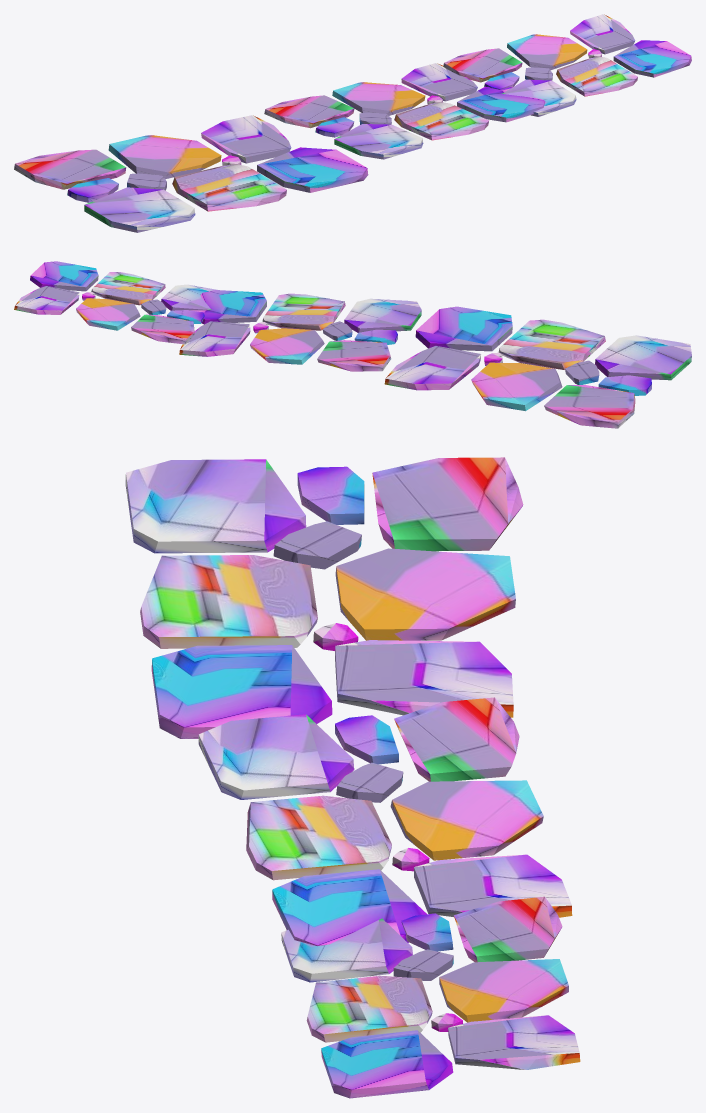
The model's file is road.glb.
The picture shows the model from 3 angles, top to bottom: view 1: azimuth 30°, elevation 25°; view 2: azimuth 150°, elevation 25°; view 3: azimuth 270°, elevation 25°; orthographic projection. The views are drawn at different scales.
Visible parts, largest first — view 1: node_id4 (×3); view 2: node_id4 (×3); view 3: node_id4 (×3).
Part boxes in pixels (x1,y1,x2,y2): node_id4 (×3): (14,14,691,232); node_id4 (×3): (14,261,691,428); node_id4 (×3): (125,457,580,1098).
Size of the model in its own units: 1.85 by 0.078 by 0.596.
Materials: 3 (3 with a texture image).
